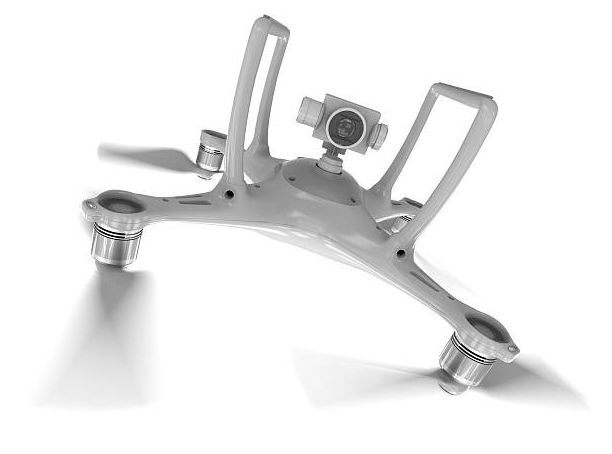Drone: (70, 12, 546, 400)
